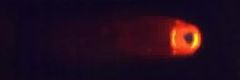keyhole: (180, 30, 197, 46)
